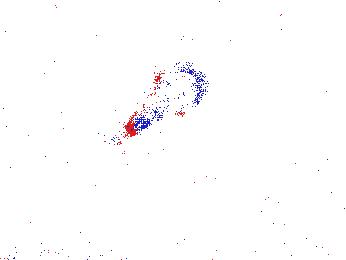flame jellyfish: (127, 61, 209, 138), (66, 121, 127, 171), (242, 160, 310, 204)
